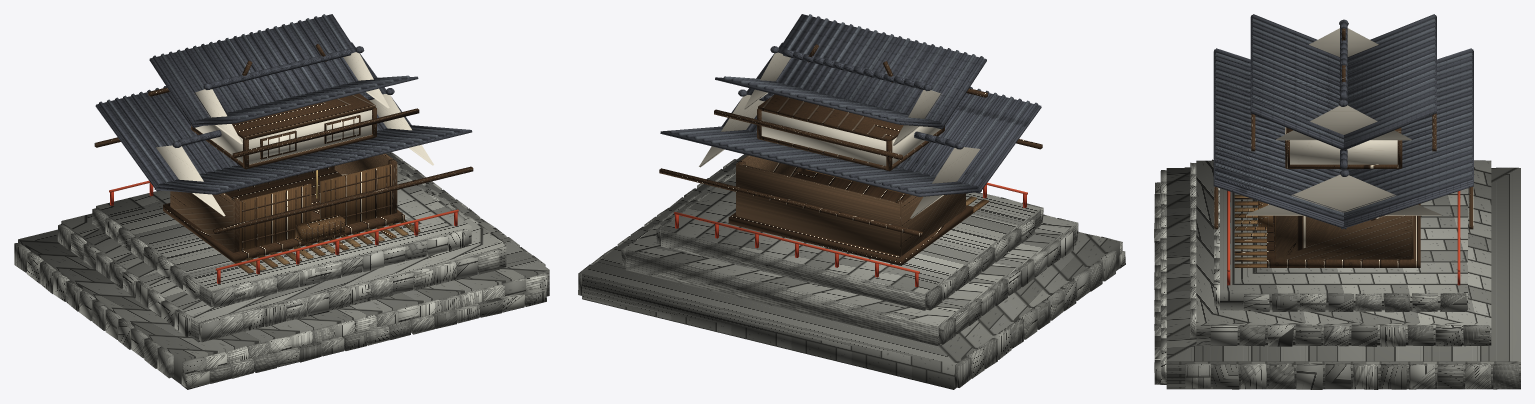
The model's file is shrine.glb.
The picture shows the model from 3 angles, left to right: view 1: azimuth 30°, elevation 25°; view 2: azimuth 150°, elevation 25°; view 3: azimuth 270°, elevation 25°; orthographic projection. The views are drawn at different scales.
Visible parts, largest first — view 1: geometry_1, geometry_8, geometry_0, geometry_3, geometry_2, geometry_9, geometry_5, geometry_10, geometry_4, geometry_6, geometry_7; view 2: geometry_1, geometry_0, geometry_8, geometry_3, geometry_4, geometry_9, geometry_10, geometry_6; view 3: geometry_1, geometry_0, geometry_8, geometry_9, geometry_10, geometry_4, geometry_3, geometry_2, geometry_5, geometry_7, geometry_6.
Boxes of the visible parts, left/top/right/bottom form: geometry_1: left=26, top=161, right=545, bottom=389; geometry_8: left=95, top=14, right=472, bottom=194; geometry_0: left=14, top=152, right=549, bottom=384; geometry_3: left=94, top=44, right=473, bottom=262; geometry_2: left=204, top=229, right=547, bottom=368; geometry_9: left=107, top=14, right=454, bottom=189; geometry_5: left=233, top=164, right=420, bottom=273; geometry_10: left=156, top=52, right=433, bottom=216; geometry_4: left=170, top=153, right=397, bottom=252; geometry_6: left=109, top=118, right=458, bottom=283; geometry_7: left=245, top=222, right=408, bottom=270; geometry_1: left=591, top=159, right=1125, bottom=378; geometry_0: left=578, top=154, right=1119, bottom=389; geometry_8: left=660, top=14, right=1041, bottom=196; geometry_3: left=659, top=44, right=1042, bottom=265; geometry_4: left=736, top=155, right=965, bottom=255; geometry_9: left=678, top=14, right=1029, bottom=191; geometry_10: left=699, top=52, right=980, bottom=218; geometry_6: left=674, top=182, right=1027, bottom=287; geometry_1: left=1154, top=159, right=1491, bottom=389; geometry_0: left=1154, top=160, right=1520, bottom=389; geometry_8: left=1213, top=14, right=1473, bottom=229; geometry_9: left=1215, top=18, right=1472, bottom=216; geometry_10: left=1246, top=28, right=1441, bottom=215; geometry_4: left=1276, top=215, right=1413, bottom=259; geometry_3: left=1214, top=28, right=1473, bottom=267; geometry_2: left=1160, top=174, right=1219, bottom=383; geometry_5: left=1234, top=201, right=1275, bottom=267; geometry_7: left=1234, top=195, right=1266, bottom=261; geometry_6: left=1227, top=127, right=1460, bottom=285.
Size of the model in its own units: 15.93 by 9.21 by 12.43.
Materials: 11 (10 with a texture image).
